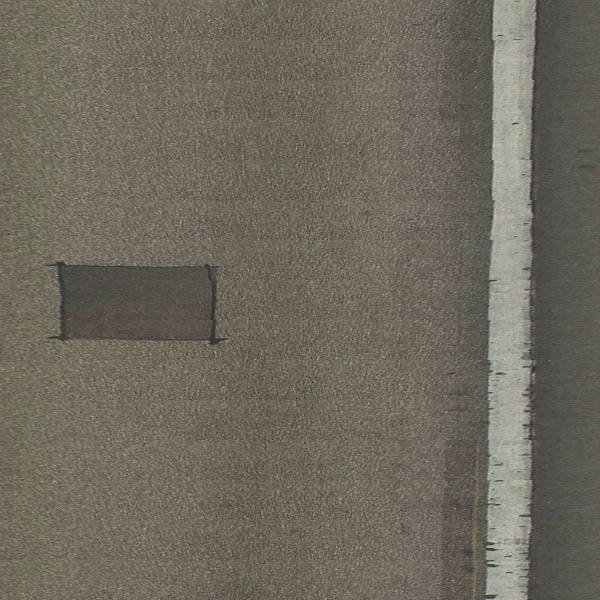road_damage: (39, 253, 236, 352)
